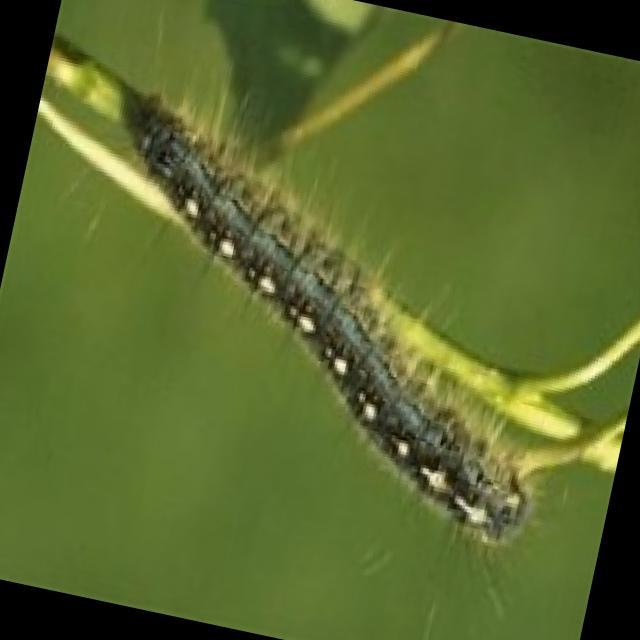Plaga: (40, 86, 598, 565)
